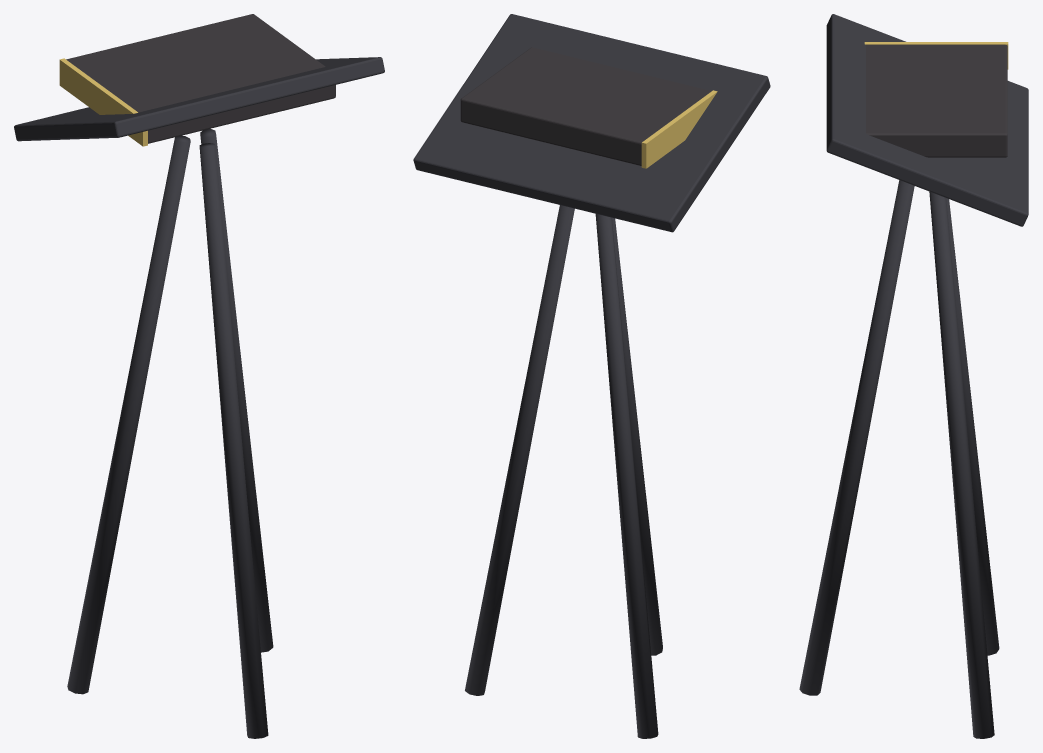
File: lectern_iron.glb
3 views of the same model, side by side, from view 1: azimuth 30°, elevation 25°; view 2: azimuth 150°, elevation 25°; view 3: azimuth 270°, elevation 25° (orthographic). The views are drawn at different scales.
Visible parts, largest first — view 1: GD_lectern_iron__m0, GD_lectern_iron__m1, GD_lectern_iron__m3; view 2: GD_lectern_iron__m0, GD_lectern_iron__m1, GD_lectern_iron__m3; view 3: GD_lectern_iron__m0, GD_lectern_iron__m1, GD_lectern_iron__m3.
Boxes of the visible parts, x1,y1,x2,y2 form: GD_lectern_iron__m0: (14, 57, 384, 738); GD_lectern_iron__m1: (66, 14, 335, 143); GD_lectern_iron__m3: (59, 58, 147, 146); GD_lectern_iron__m0: (413, 14, 770, 738); GD_lectern_iron__m1: (460, 47, 711, 165); GD_lectern_iron__m3: (641, 90, 717, 168); GD_lectern_iron__m0: (799, 14, 1028, 738); GD_lectern_iron__m1: (866, 44, 1007, 157); GD_lectern_iron__m3: (864, 42, 1008, 69).
Size of the model in its own units: 0.56 by 1.27 by 0.4284.
